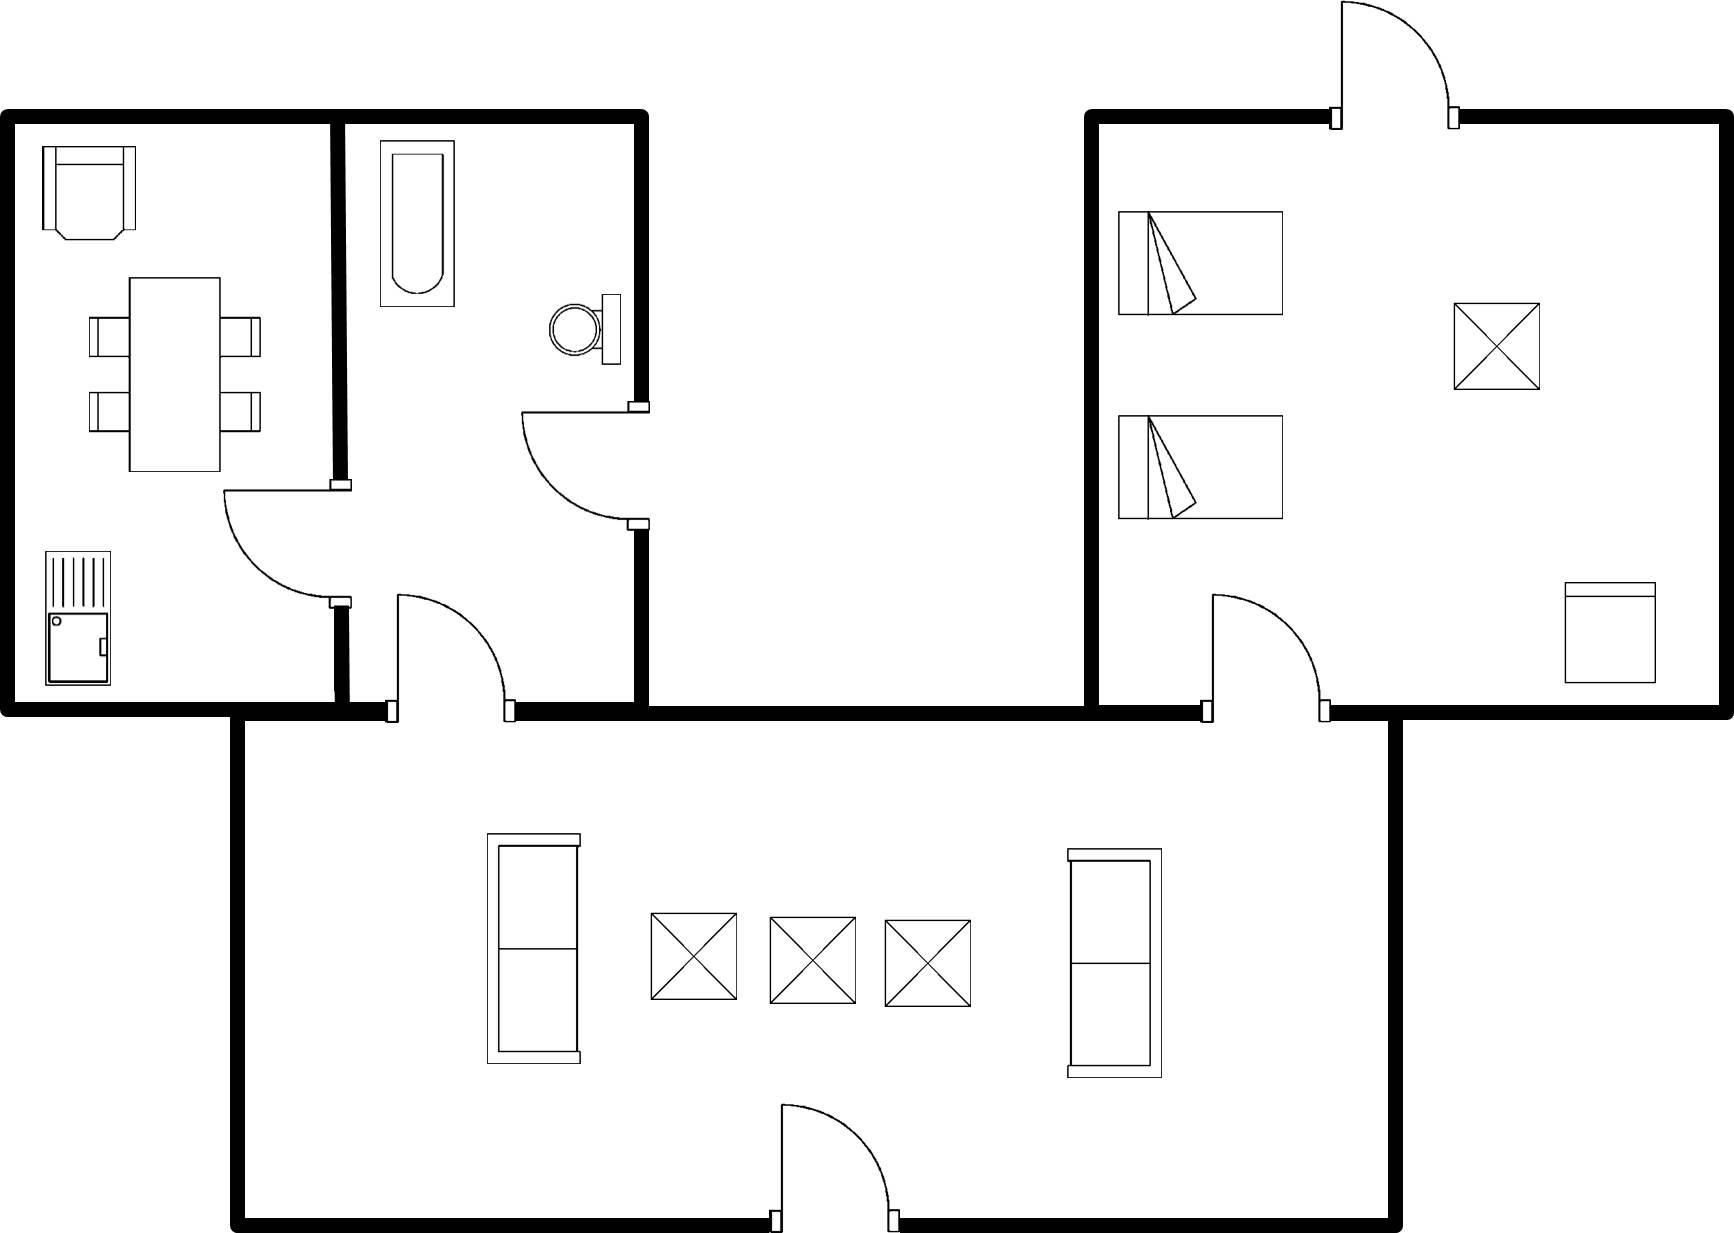bed: (1107, 201, 1292, 327), (1108, 406, 1291, 531)
dining_table: (77, 268, 265, 479)
sink: (33, 542, 125, 695)
sofa: (478, 825, 594, 1076), (1055, 835, 1170, 1089)
toilet: (536, 282, 626, 376)
tub: (371, 131, 462, 314)
